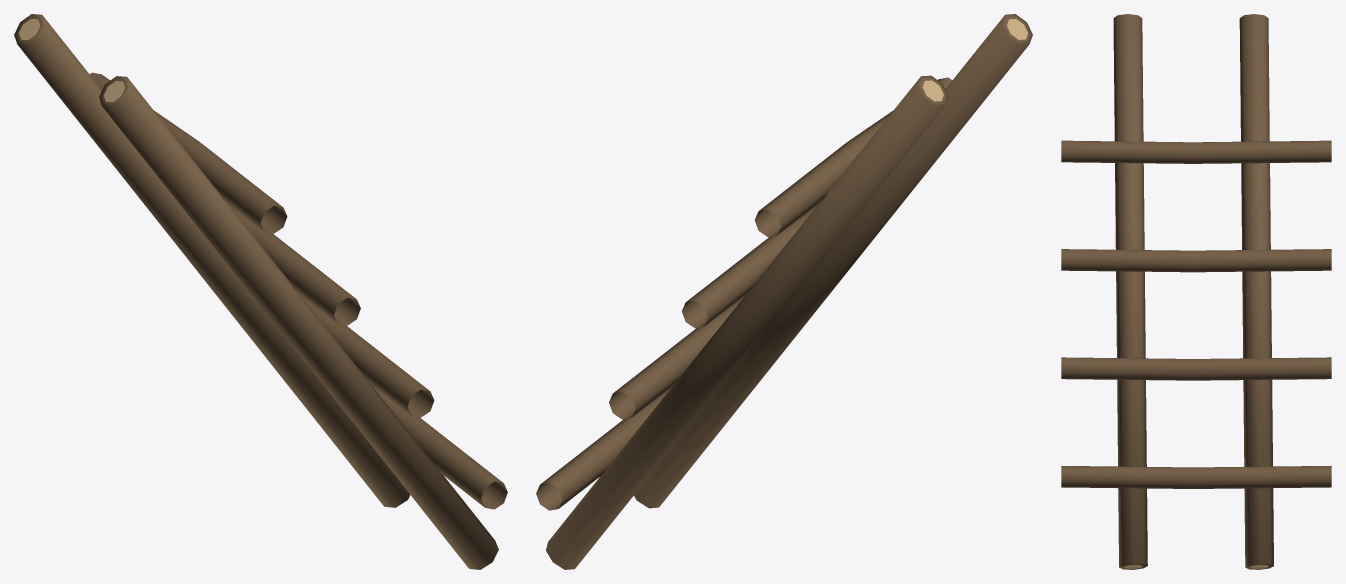
File: rpgpp_ag_roof_support_01_6x5x3_half_b.fbx
3 views of the same model, side by side, from view 1: azimuth 30°, elevation 25°; view 2: azimuth 150°, elevation 25°; view 3: azimuth 270°, elevation 25° (orthographic). The views are drawn at different scales.
Visible parts, largest first — view 1: rpgpp_ag_roof_support_01_6x5x3_half_b; view 2: rpgpp_ag_roof_support_01_6x5x3_half_b; view 3: rpgpp_ag_roof_support_01_6x5x3_half_b.
Part boxes in pixels (x1,y1,x2,y2): rpgpp_ag_roof_support_01_6x5x3_half_b: [14, 14, 507, 569]; rpgpp_ag_roof_support_01_6x5x3_half_b: [536, 14, 1032, 569]; rpgpp_ag_roof_support_01_6x5x3_half_b: [1061, 14, 1331, 569].
Bounding box in the file's own units: 3.78 × 5.27 × 3.
